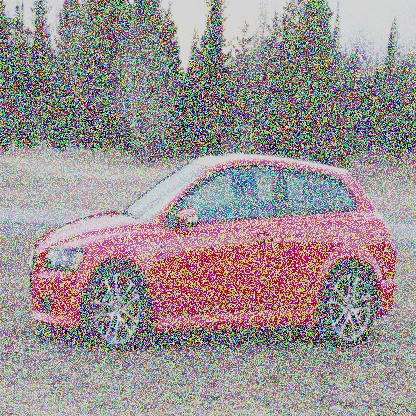Vehicle: (28, 152, 397, 352)
